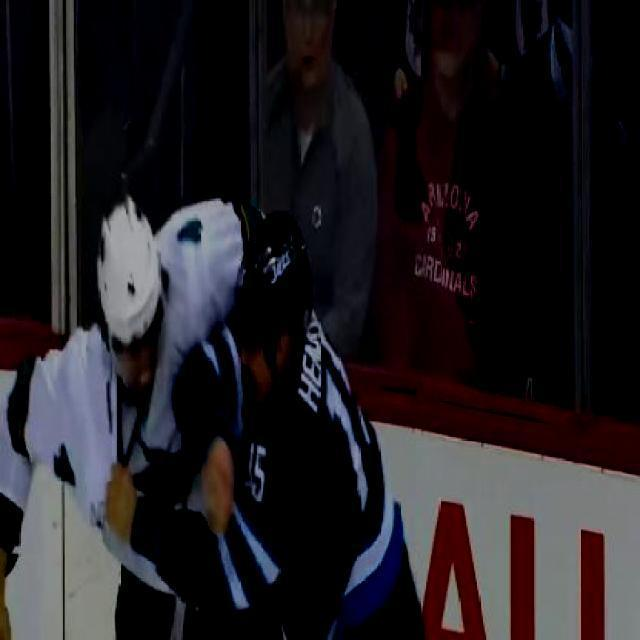fight: (2, 192, 404, 640)
